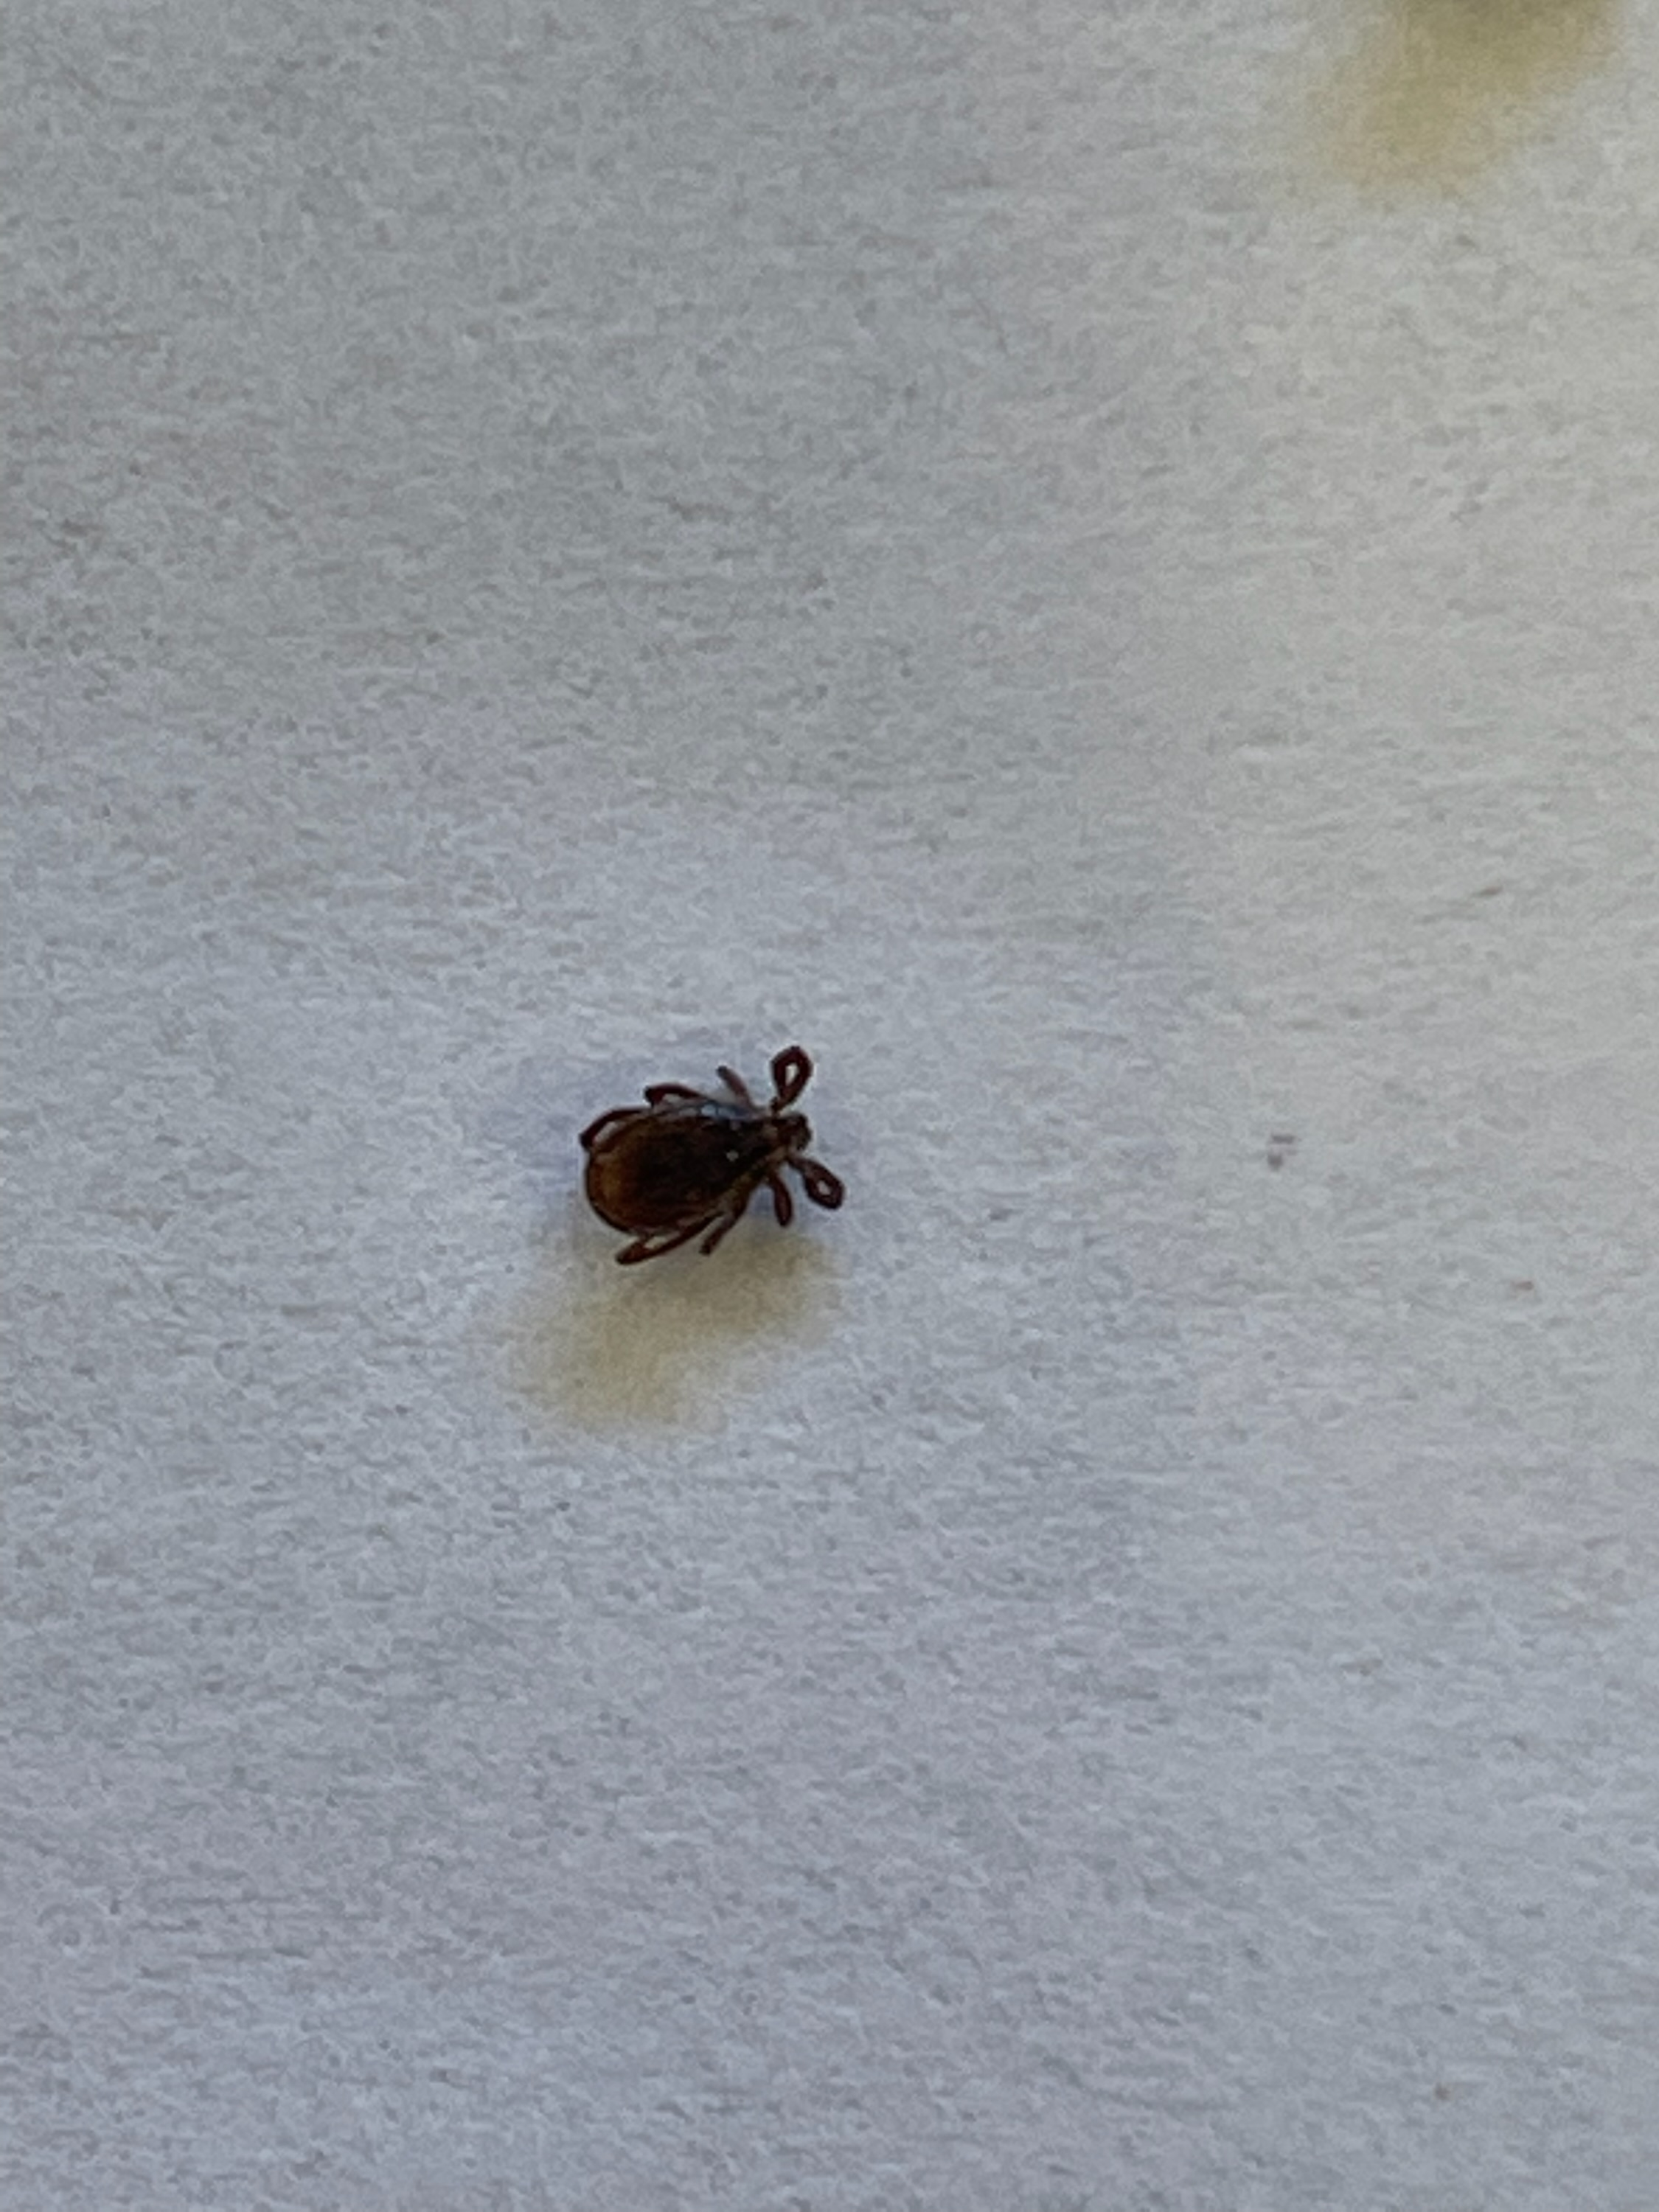unlabelled_tick: (545, 1032, 884, 1284)
